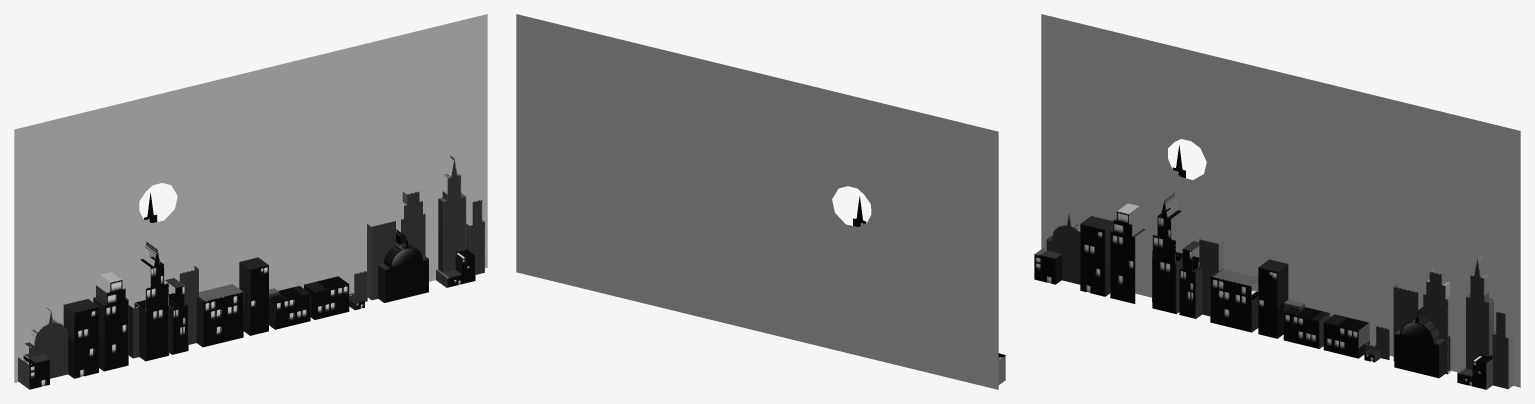
The model's file is Stadt.fbx.
3 views of the same model, side by side, from view 1: azimuth 30°, elevation 25°; view 2: azimuth 150°, elevation 25°; view 3: azimuth 330°, elevation 25° (orthographic).
Visible parts, largest first — view 1: Plane.004, Plane.005, Plane.003; view 2: Plane.004; view 3: Plane.004, Plane.005, Plane.003.
Boxes of the visible parts, x1,y1,x2,y2 form: Plane.004: (14, 14, 487, 382); Plane.005: (18, 229, 475, 389); Plane.003: (23, 155, 484, 378); Plane.004: (516, 14, 998, 389); Plane.004: (1041, 14, 1520, 387); Plane.005: (1034, 193, 1492, 389); Plane.003: (1046, 210, 1513, 389).
Bounding box in the file's own units: 480 × 245 × 18.89.
